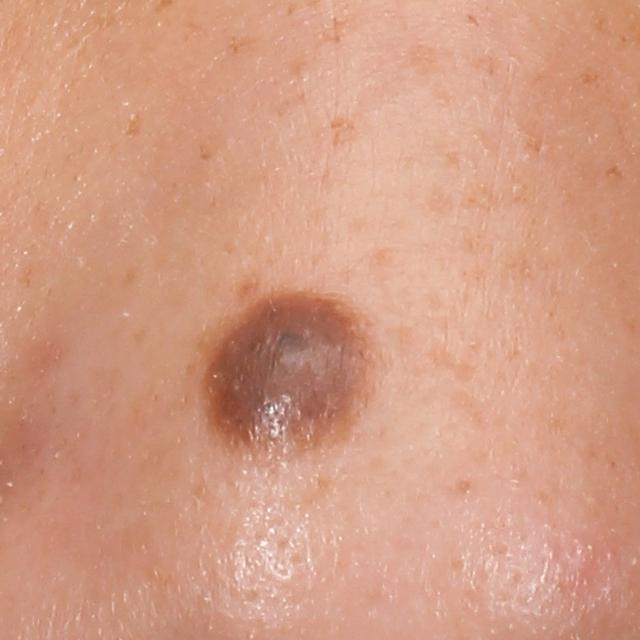melasma: (403, 42, 459, 86), (305, 11, 355, 55), (330, 113, 361, 148), (224, 32, 259, 57), (124, 109, 144, 140), (574, 68, 603, 87), (592, 8, 611, 36), (197, 141, 216, 164), (604, 163, 623, 179), (467, 13, 483, 29)
nevus: (203, 280, 381, 455)
